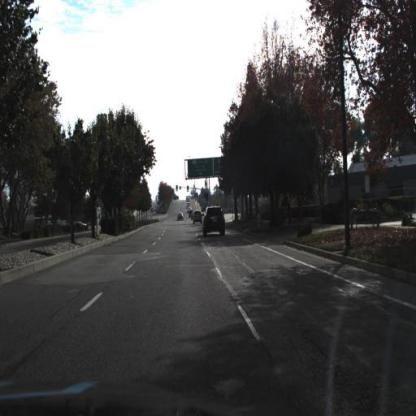car: (203, 207, 226, 239), (192, 207, 203, 231), (192, 211, 203, 226), (177, 212, 184, 223)
trafficLight-Green: (176, 184, 180, 193), (187, 186, 191, 194)
